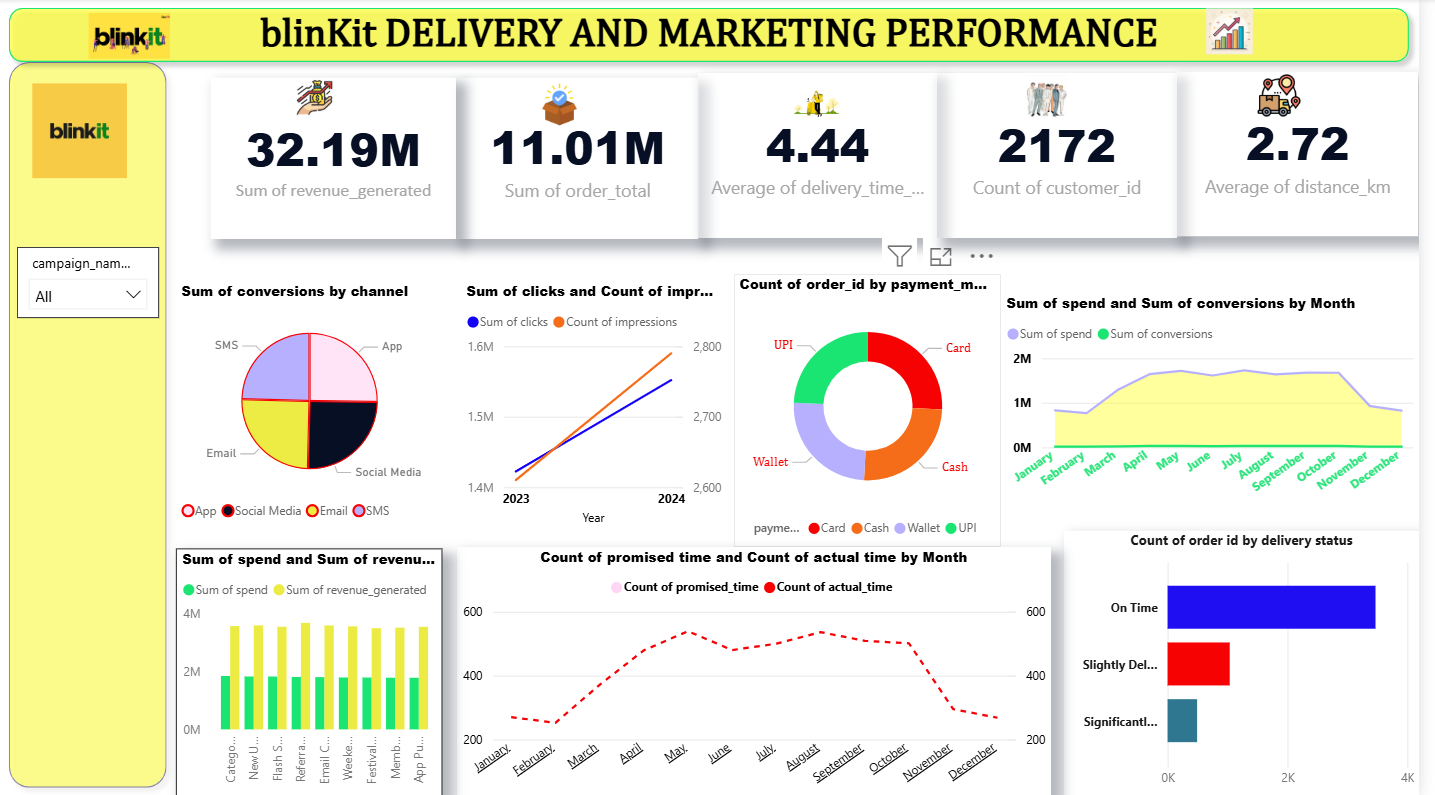

This screenshot's page, from the dashboard's own definition file:
{"tool":"powerbi","page":{"name":"Page 1","canvas":[1280,720],"ordinal":0},"visuals":[{"type":"shape","box":[0,59.7,163.7,654.8],"z":0},{"type":"shape","box":[0,0,1279.5,66.6],"z":1000},{"type":"clusteredColumnChart","fields":{"Category":["blinkit_marketing_performance.campaign_name"],"Y":["Sum(blinkit_marketing_performance.spend)","Sum(blinkit_marketing_performance.revenue_generated)"]},"box":[177.2,495.1,230.2,224.1],"z":2000},{"type":"card","fields":{"Values":["Sum(blinkit_orders.order_total)"]},"box":[411.9,71.2,218,145.4],"z":3000},{"type":"card","fields":{"Values":["Avg(blinkit_delivery_performance.delivery_time_minutes)"]},"box":[629.9,68.1,215,148.4],"z":4000},{"type":"card","fields":{"Values":["Sum(blinkit_marketing_performance.revenue_generated)"]},"box":[190.8,71.2,221.1,145.4],"z":5000},{"type":"pieChart","fields":{"Category":["blinkit_marketing_performance.channel"],"Y":["Sum(blinkit_marketing_performance.conversions)"]},"box":[177.2,255.9,230.2,207.4],"z":6000},{"type":"lineChart","fields":{"Category":["blinkit_marketing_performance.date.Variation.Date Hierarchy.Year"],"Y2":["CountNonNull(blinkit_marketing_performance.impressions)"],"Y":["Sum(blinkit_marketing_performance.clicks)"]},"box":[411.9,255.9,231.7,210.5],"z":7000},{"type":"image","box":[711.7,56,51.5,77.2],"z":8000},{"type":"slicer","fields":{"Values":["blinkit_marketing_performance.campaign_name","blinkit_marketing_performance.channel"]},"box":[16.7,204.4,128.7,51.5],"z":9000},{"type":"image","box":[242.3,68.1,84.8,43.9],"z":10000},{"type":"donutChart","fields":{"Category":["blinkit_orders.payment_method"],"Y":["CountNonNull(blinkit_orders.order_id)"]},"box":[661.7,248.3,240.8,246.8],"z":11000},{"type":"barChart","title":"Count of order id by delivery status","fields":{"Category":["blinkit_delivery_performance.delivery_status"],"Y":["CountNonNull(blinkit_delivery_performance.order_id)"]},"box":[967.6,481.5,311.9,237.7],"z":12000},{"type":"lineChart","title":"Count of promised time and Count of actual time by Month","fields":{"Category":["blinkit_orders.order_date.Variation.Date Hierarchy.Month"],"Y":["CountNonNull(blinkit_delivery_performance.promised_time)"],"Y2":["CountNonNull(blinkit_delivery_performance.actual_time)"]},"box":[411.9,495.1,536,224.1],"z":13000},{"type":"areaChart","fields":{"Category":["blinkit_marketing_performance.date.Variation.Date Hierarchy.Month"],"Y":["Sum(blinkit_marketing_performance.spend)","Sum(blinkit_marketing_performance.conversions)"]},"box":[902.5,266.5,377,189.3],"z":14000},{"type":"card","fields":{"Values":["Count(blinkit_orders.customer_id)"]},"box":[844.9,68.1,216.5,148.4],"z":15000},{"type":"card","fields":{"Values":["Avg(blinkit_delivery_performance.distance_km)"]},"box":[1061.5,66.6,218,148.4],"z":16000},{"type":"image","box":[6.1,7.6,224.1,51.5],"z":17000},{"type":"image","box":[451.2,71.2,107.5,48.5],"z":18000},{"type":"image","box":[0,84.8,145.4,95.4],"z":19000},{"type":"image","box":[893.4,63.6,101.5,48.5],"z":20000},{"type":"image","box":[1066,4.5,84.8,51.5],"z":21000},{"type":"image","box":[1091.7,63.6,122.7,48.5],"z":22000},{"type":"actionButton","box":[0,272,160,448],"z":23000}]}

Visuals, with their boxes in screenshot pixels (x1, y1, x2, y2), scaled from the page's 1280x720 canvas onto the 1435x795 screenshot:
shape: left=0, top=66, right=184, bottom=789
shape: left=0, top=0, right=1434, bottom=74
clusteredColumnChart - blinkit_marketing_performance.campaign_name x Sum(blinkit_marketing_performance.spend): left=199, top=547, right=457, bottom=794
card - Sum(blinkit_orders.order_total): left=462, top=79, right=706, bottom=239
card - Avg(blinkit_delivery_performance.delivery_time_minutes): left=706, top=75, right=947, bottom=239
card - Sum(blinkit_marketing_performance.revenue_generated): left=214, top=79, right=462, bottom=239
pieChart - blinkit_marketing_performance.channel x Sum(blinkit_marketing_performance.conversions): left=199, top=283, right=457, bottom=512
lineChart - blinkit_marketing_performance.date.Variation.Date Hierarchy.Year x CountNonNull(blinkit_marketing_performance.impressions): left=462, top=283, right=722, bottom=515
image: left=798, top=62, right=856, bottom=147
slicer - blinkit_marketing_performance.campaign_name x blinkit_marketing_performance.channel: left=19, top=226, right=163, bottom=283
image: left=272, top=75, right=367, bottom=124
donutChart - blinkit_orders.payment_method x CountNonNull(blinkit_orders.order_id): left=742, top=274, right=1012, bottom=547
"Count of order id by delivery status" barChart: left=1085, top=532, right=1434, bottom=794
"Count of promised time and Count of actual time by Month" lineChart: left=462, top=547, right=1063, bottom=794
areaChart - blinkit_marketing_performance.date.Variation.Date Hierarchy.Month x Sum(blinkit_marketing_performance.spend): left=1012, top=294, right=1434, bottom=503
card - Count(blinkit_orders.customer_id): left=947, top=75, right=1190, bottom=239
card - Avg(blinkit_delivery_performance.distance_km): left=1190, top=74, right=1434, bottom=237
image: left=7, top=8, right=258, bottom=65
image: left=506, top=79, right=626, bottom=132
image: left=0, top=94, right=163, bottom=199
image: left=1002, top=70, right=1115, bottom=124
image: left=1195, top=5, right=1290, bottom=62
image: left=1224, top=70, right=1361, bottom=124
actionButton: left=0, top=300, right=179, bottom=794
